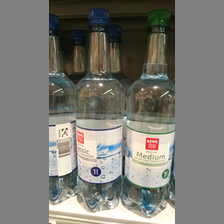water: (125, 9, 175, 216), (75, 7, 125, 211), (50, 13, 76, 207)
